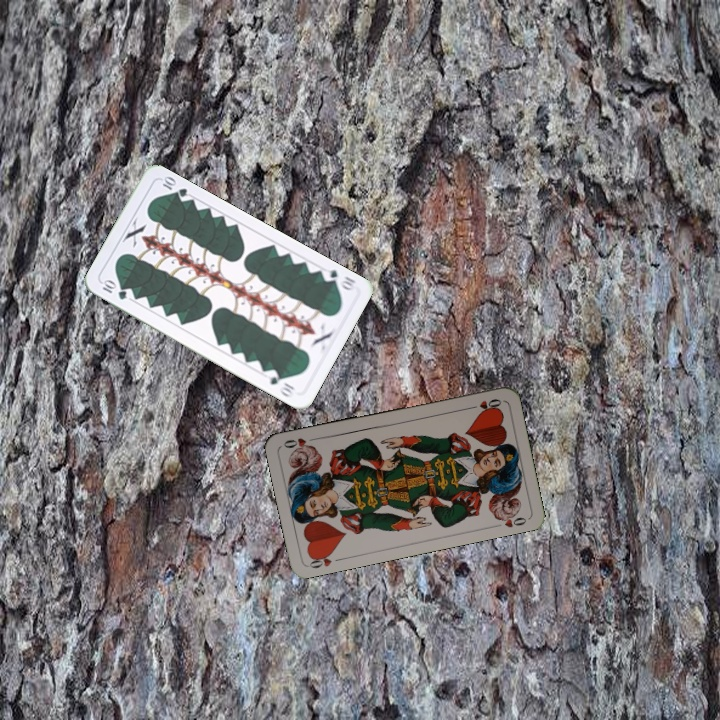G10: (318, 264, 358, 294), (98, 276, 129, 302)
HO: (305, 548, 345, 571), (464, 395, 504, 412)
